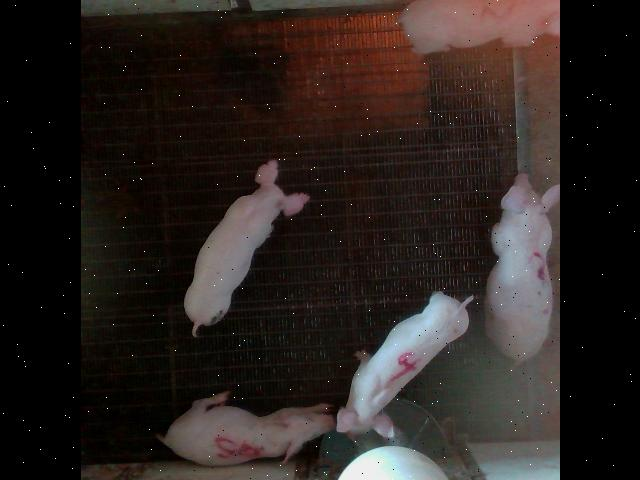pig-2: (399, 0, 559, 54)
pig-3: (485, 175, 559, 364)
pig-4: (336, 291, 472, 438)
pig-5: (155, 391, 334, 465)
